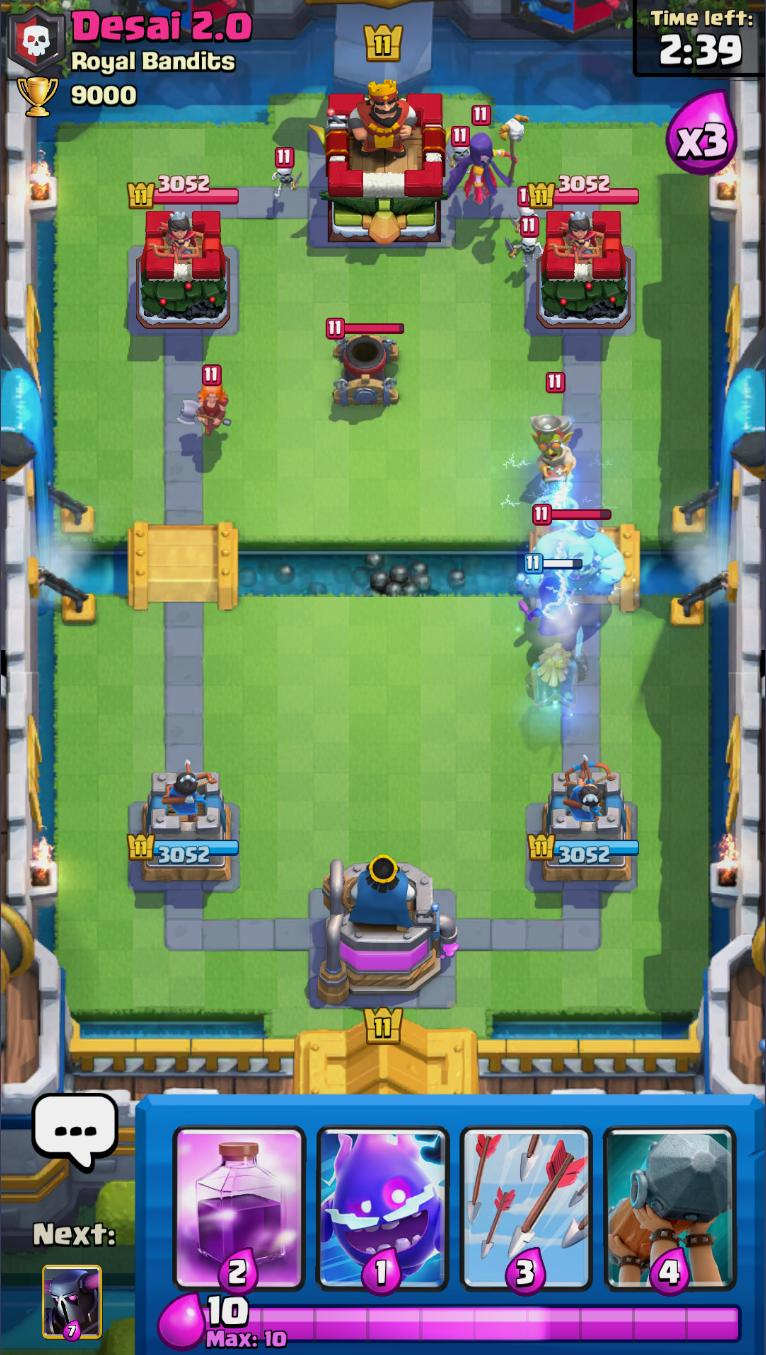ArrowDeck: (456, 1094, 598, 1295)
BattleRamDeck: (599, 1094, 744, 1296)
ElectroSpiritDeck: (311, 1095, 455, 1296)
Elixir: (203, 1295, 744, 1350)
EnemyTower: (533, 208, 631, 331), (133, 210, 229, 335)
Goblinstein: (518, 505, 628, 602)
GoblinsteinScientist: (531, 374, 577, 487)
KingTower: (308, 82, 456, 248)
Mortar: (325, 319, 406, 409)
MyBandit: (517, 554, 583, 636)
MyKingTower: (319, 856, 458, 1009)
MyPrincessTower: (524, 771, 639, 887), (125, 769, 238, 887)
MyPrincessTowerHP: (125, 836, 238, 868), (525, 835, 637, 867)
MyRoyaleGhost: (529, 629, 587, 714)
PekkaNext: (40, 1264, 105, 1344)
PrincessTower: (546, 213, 603, 264), (144, 214, 200, 264)
RageDeck: (167, 1095, 310, 1296)
Skeleton: (504, 222, 543, 275), (271, 147, 302, 198), (510, 187, 540, 233), (445, 127, 475, 171)
TowerPrincessHP: (126, 178, 239, 213), (526, 178, 639, 212)
Valkyrie: (178, 364, 233, 443)
Witch: (445, 105, 527, 206)
